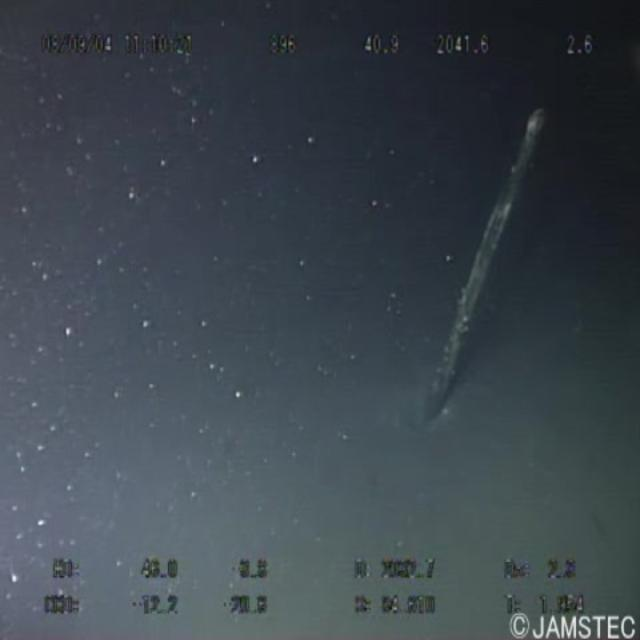Metal: (412, 86, 562, 435)
